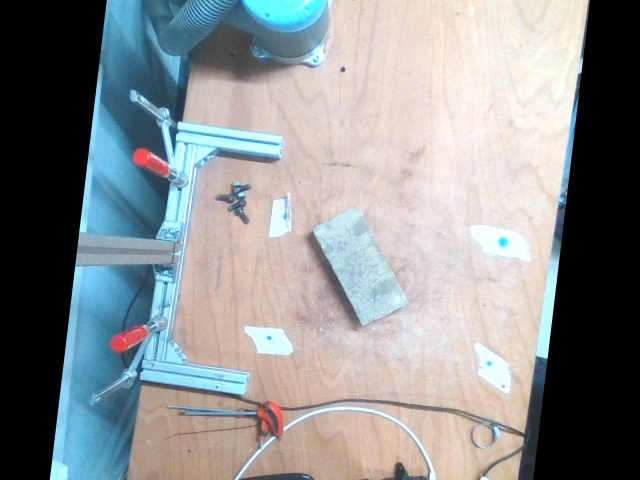brick: (314, 207, 407, 324)
